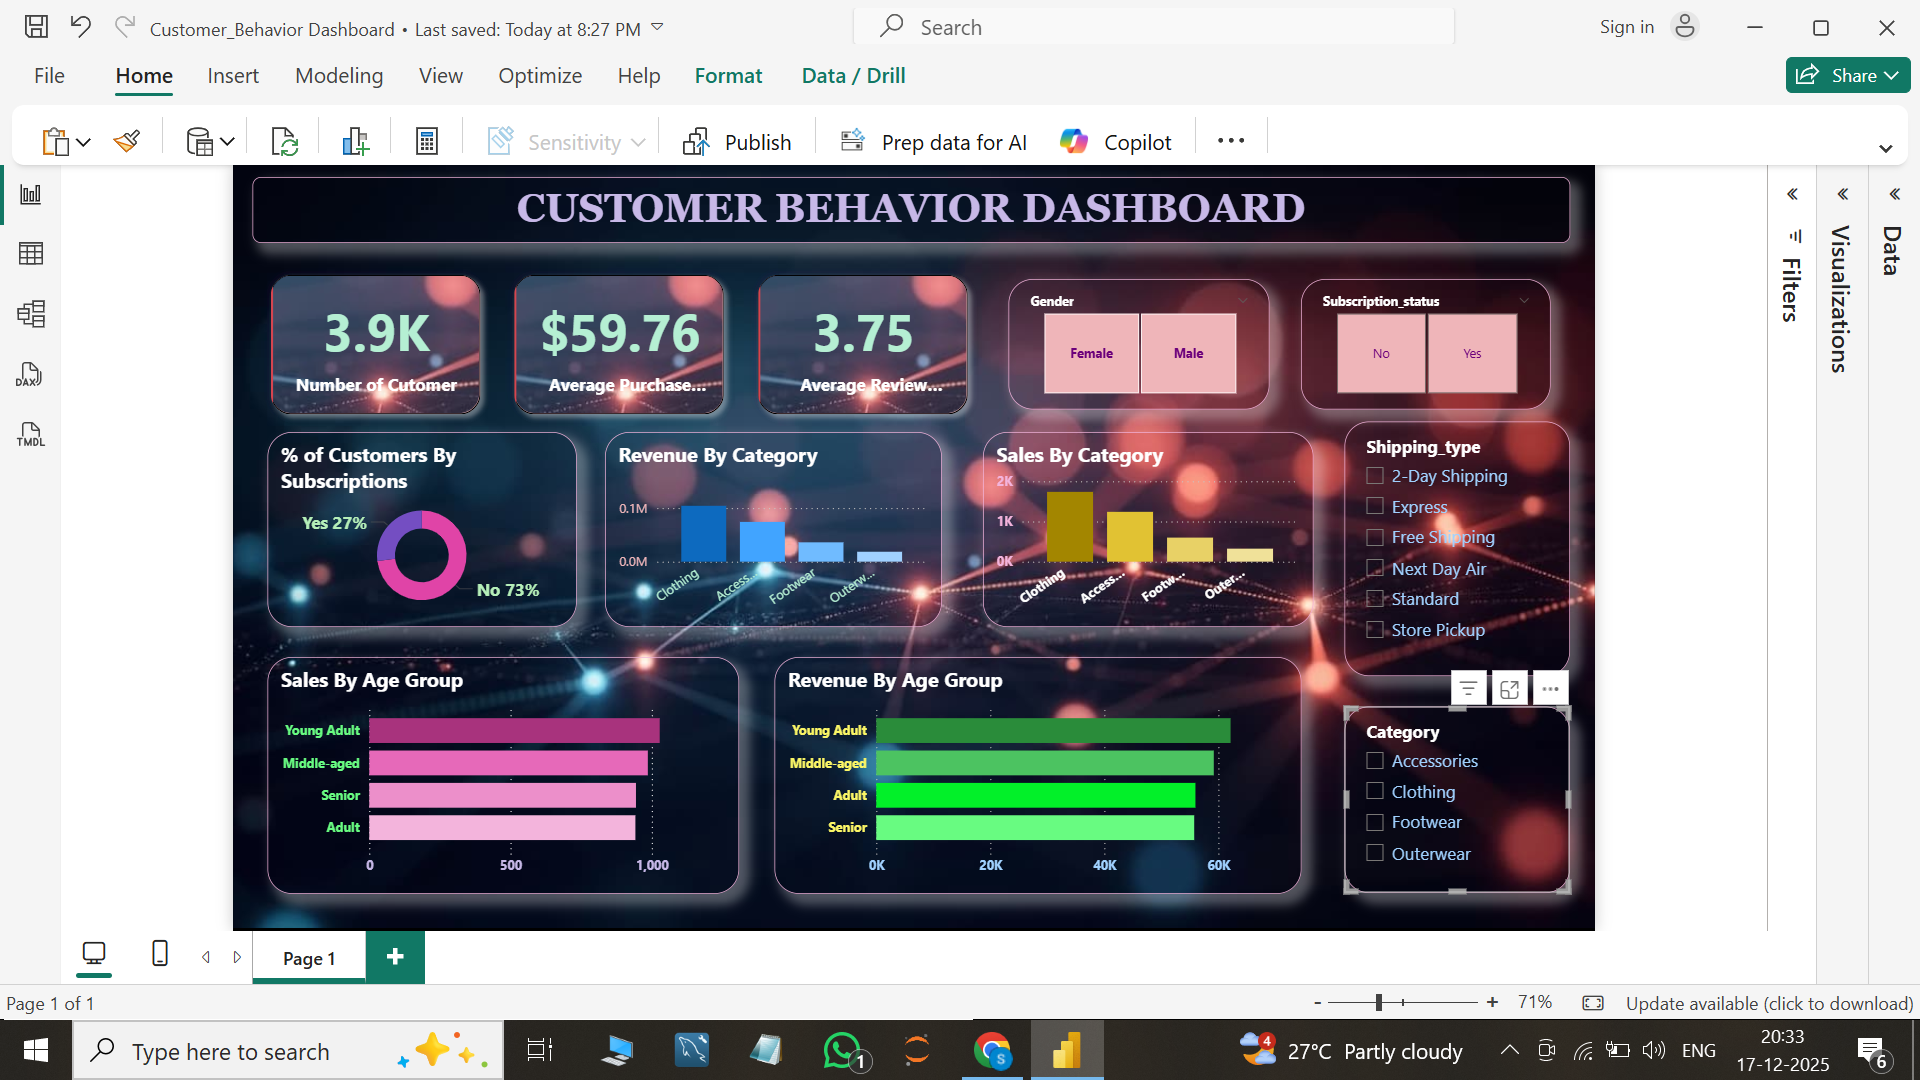

This screenshot's page, from the dashboard's own definition file:
{"tool":"powerbi","page":{"name":"Page 1","canvas":[1280,720],"ordinal":0},"visuals":[{"type":"cardVisual","fields":{"Data":["public customer.Number of Cutomer","public customer.Average Purchase amount","public customer.Average Review Rating"]},"box":[18.2,86.3,690.5,165],"z":0},{"type":"textbox","box":[18.2,10.6,1238.6,62.1],"z":1000},{"type":"donutChart","title":"% of Customers By Subscriptions","fields":{"Category":["public customer.subscription_status"],"Y":["public customer.Number of Cutomer"]},"box":[31.8,251.4,290.7,183.2],"z":2000},{"type":"clusteredColumnChart","title":"Revenue By Category","fields":{"Y":["Sum(public customer.purchase_amount)"],"Category":["public customer.category"]},"box":[349.8,251.4,316.5,183.2],"z":3000},{"type":"clusteredColumnChart","title":"Sales By Category","fields":{"Category":["public customer.category"],"Y":["CountNonNull(public customer.customer_id)"]},"box":[705.6,251.4,310.4,183.2],"z":4000},{"type":"slicer","title":"Subscription Status","fields":{"Values":["public customer.subscription_status"]},"box":[1003.9,107.5,234.7,122.7],"z":5000},{"type":"slicer","title":"Gender","fields":{"Values":["public customer.gender"]},"box":[728.9,107.2,245.3,122.7],"z":6000},{"type":"slicer","title":"Shipping Type","fields":{"Values":["public customer.shipping_type"]},"box":[1044.8,240.8,212,239.2],"z":7000},{"type":"clusteredBarChart","title":"Revenue By Age Group","fields":{"Y":["Sum(public customer.purchase_amount)"],"Category":["public customer.age_group"]},"box":[508.8,461.8,495.1,222.6],"z":8000},{"type":"clusteredBarChart","title":"Sales By Age Group","fields":{"Category":["public customer.age_group"],"Y":["CountNonNull(public customer.customer_id)"]},"box":[31.8,461.8,443.7,222.6],"z":9000},{"type":"slicer","fields":{"Values":["public customer.category"]},"box":[1044.8,508.8,212,175.6],"z":10000}]}

Visuals, with their boxes on the page's 1280x720 design canvas (x1, y1, x2, y2). These are canvas units, not pixel positions in the 1920x1080 screenshot, which may show the page scaled, cropped or inside an application window:
cardVisual - public customer.Number of Cutomer x public customer.Average Purchase amount: region(18, 86, 709, 251)
textbox: region(18, 11, 1257, 73)
"% of Customers By Subscriptions" donutChart: region(32, 251, 322, 435)
"Revenue By Category" clusteredColumnChart: region(350, 251, 666, 435)
"Sales By Category" clusteredColumnChart: region(706, 251, 1016, 435)
"Subscription Status" slicer: region(1004, 108, 1239, 230)
"Gender" slicer: region(729, 107, 974, 230)
"Shipping Type" slicer: region(1045, 241, 1257, 480)
"Revenue By Age Group" clusteredBarChart: region(509, 462, 1004, 684)
"Sales By Age Group" clusteredBarChart: region(32, 462, 476, 684)
slicer - public customer.category: region(1045, 509, 1257, 684)
